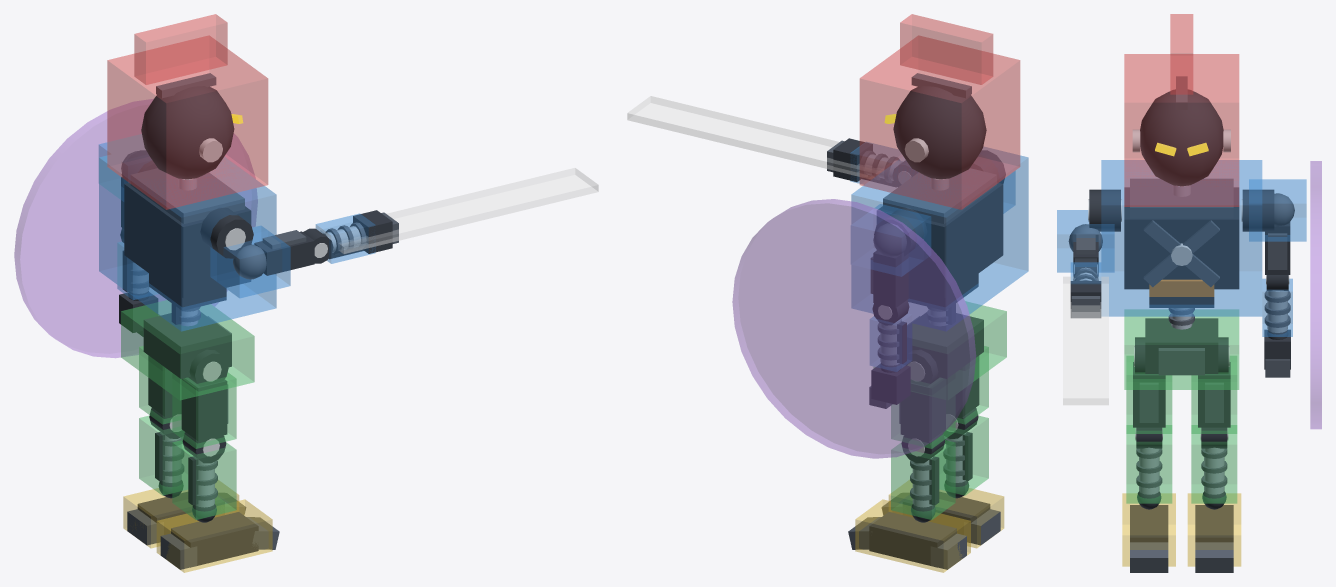
Rendered from fit_guide.glb.
3 views of the same model, side by side, from view 1: azimuth 30°, elevation 25°; view 2: azimuth 150°, elevation 25°; view 3: azimuth 270°, elevation 25° (orthographic). The views are drawn at different scales.
Visible parts, largest first — view 1: head, chest, arm_L, leg_R, hips, hand_R, arm_R, foot_R, leg_L, foot_L, hand_L; view 2: arm_L, head, chest, leg_L, hand_R, foot_L, leg_R, hips, foot_R, arm_R, hand_L; view 3: chest, head, arm_L, hips, leg_R, leg_L, hand_R, foot_L, foot_R, arm_R, hand_L.
Boxes of the visible parts, x1,y1,x2,y2 form: head: [107, 14, 268, 209]; chest: [99, 147, 276, 331]; arm_L: [14, 99, 257, 358]; leg_R: [172, 349, 236, 522]; hips: [121, 300, 254, 400]; hand_R: [320, 168, 598, 253]; arm_R: [210, 213, 375, 298]; foot_R: [156, 499, 279, 572]; leg_L: [139, 346, 192, 498]; foot_L: [123, 480, 246, 548]; hand_L: [119, 292, 159, 336]; arm_L: [732, 199, 976, 458]; head: [859, 14, 1020, 209]; chest: [851, 147, 1028, 330]; leg_L: [891, 350, 955, 522]; hand_R: [627, 96, 874, 181]; foot_L: [848, 499, 970, 572]; leg_R: [935, 346, 988, 498]; hips: [873, 301, 1006, 399]; foot_R: [881, 480, 1004, 548]; arm_R: [850, 142, 1015, 213]; hand_L: [869, 364, 910, 408]; chest: [1088, 160, 1274, 329]; head: [1124, 14, 1239, 206]; arm_L: [1249, 161, 1321, 429]; hips: [1124, 309, 1239, 389]; leg_R: [1126, 337, 1172, 509]; leg_L: [1191, 337, 1237, 509]; hand_R: [1063, 276, 1108, 405]; foot_L: [1187, 493, 1241, 572]; foot_R: [1122, 493, 1175, 572]; arm_R: [1057, 210, 1114, 283]; hand_L: [1264, 329, 1290, 377].
Size of the model in its own units: 1.33 by 1.46 by 0.69.
